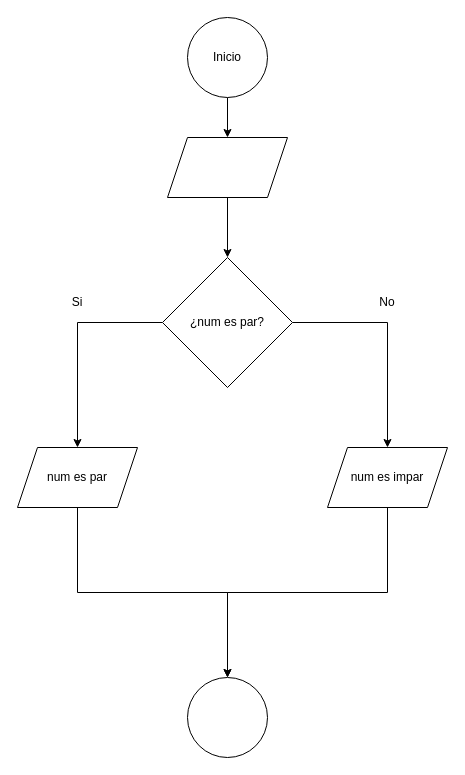
Image size: 465x775. Some labels were removed from this diagram. The shapes that lost their labels are listed below. From the top down, each one's box as (x1, y1, x2, y2) in pixels, then its label:
(166, 136, 288, 198): int num
(186, 676, 268, 758): Fin
